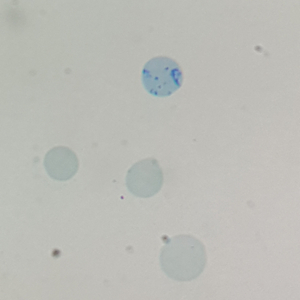aggregate reticulocyte: (140, 55, 184, 98)
erythrocyte: (158, 233, 210, 283), (42, 144, 80, 183)
punctate reticulocyte: (124, 156, 166, 199)
